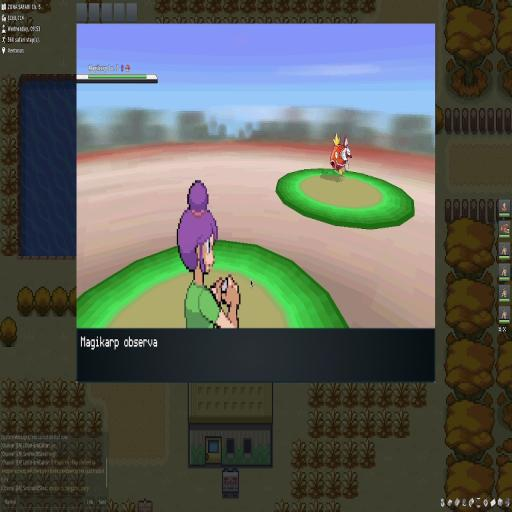MAGIKARP: (328, 132, 353, 180)
